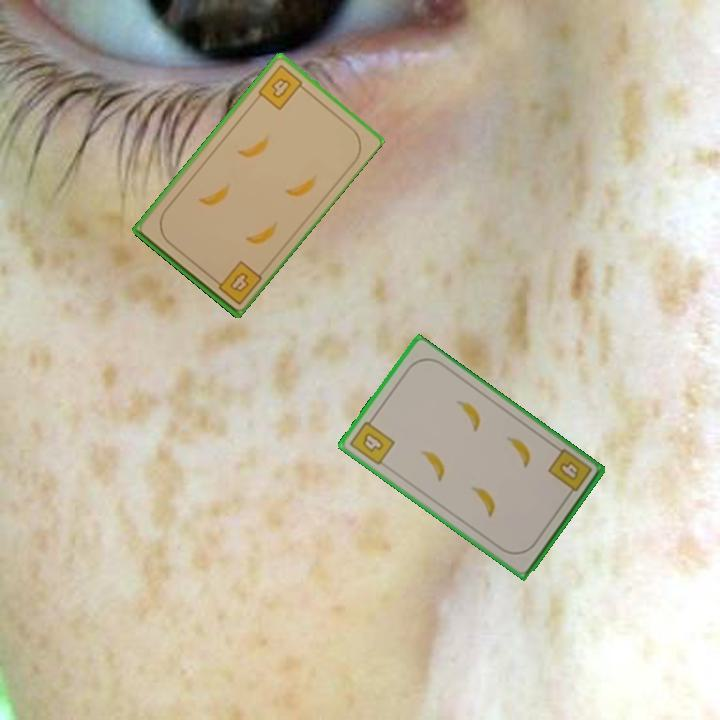4b: (254, 61, 309, 113), (346, 413, 398, 468), (544, 445, 595, 501), (209, 257, 264, 308)
